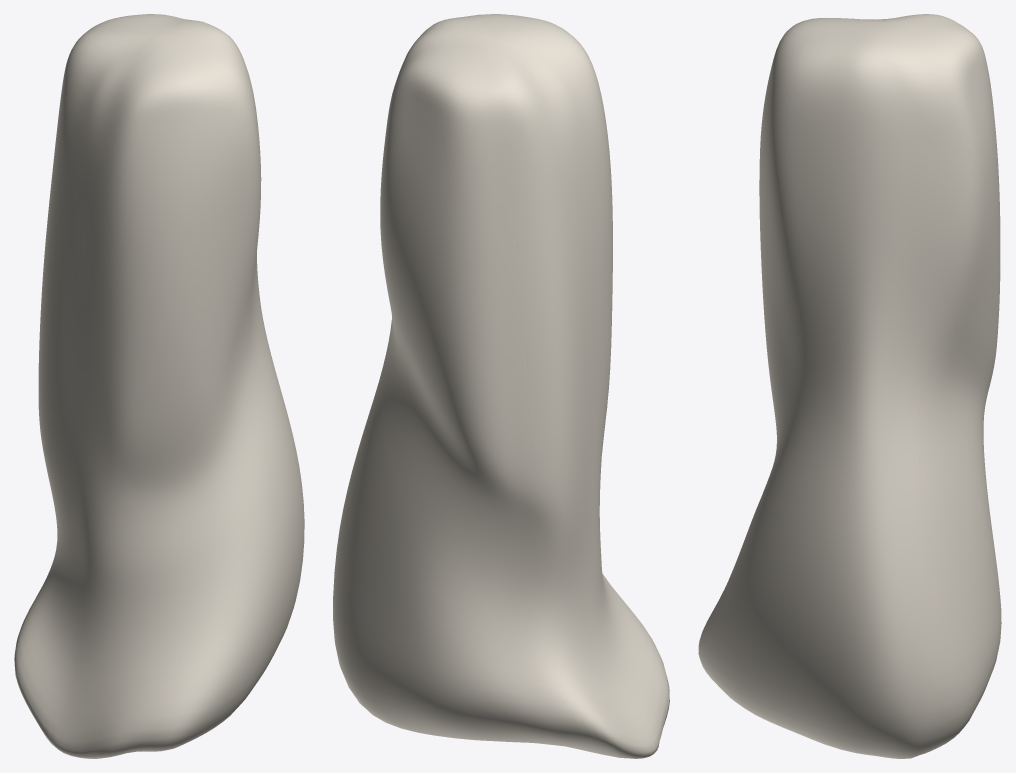
The model's file is rightUpperArm.dae.
The picture shows the model from 3 angles, left to right: view 1: azimuth 30°, elevation 25°; view 2: azimuth 150°, elevation 25°; view 3: azimuth 270°, elevation 25°; orthographic projection. The views are drawn at different scales.
Parts seen in each view (by area): view 1: Disc.1; view 2: Disc.1; view 3: Disc.1.
Boxes of the visible parts, x1,y1,x2,y2 form: Disc.1: (14,14,304,758); Disc.1: (333,14,669,758); Disc.1: (698,14,1001,758).
Size of the model in its own units: 83.65 by 198 by 76.31.
Materials: 1 (1 with a texture image).
